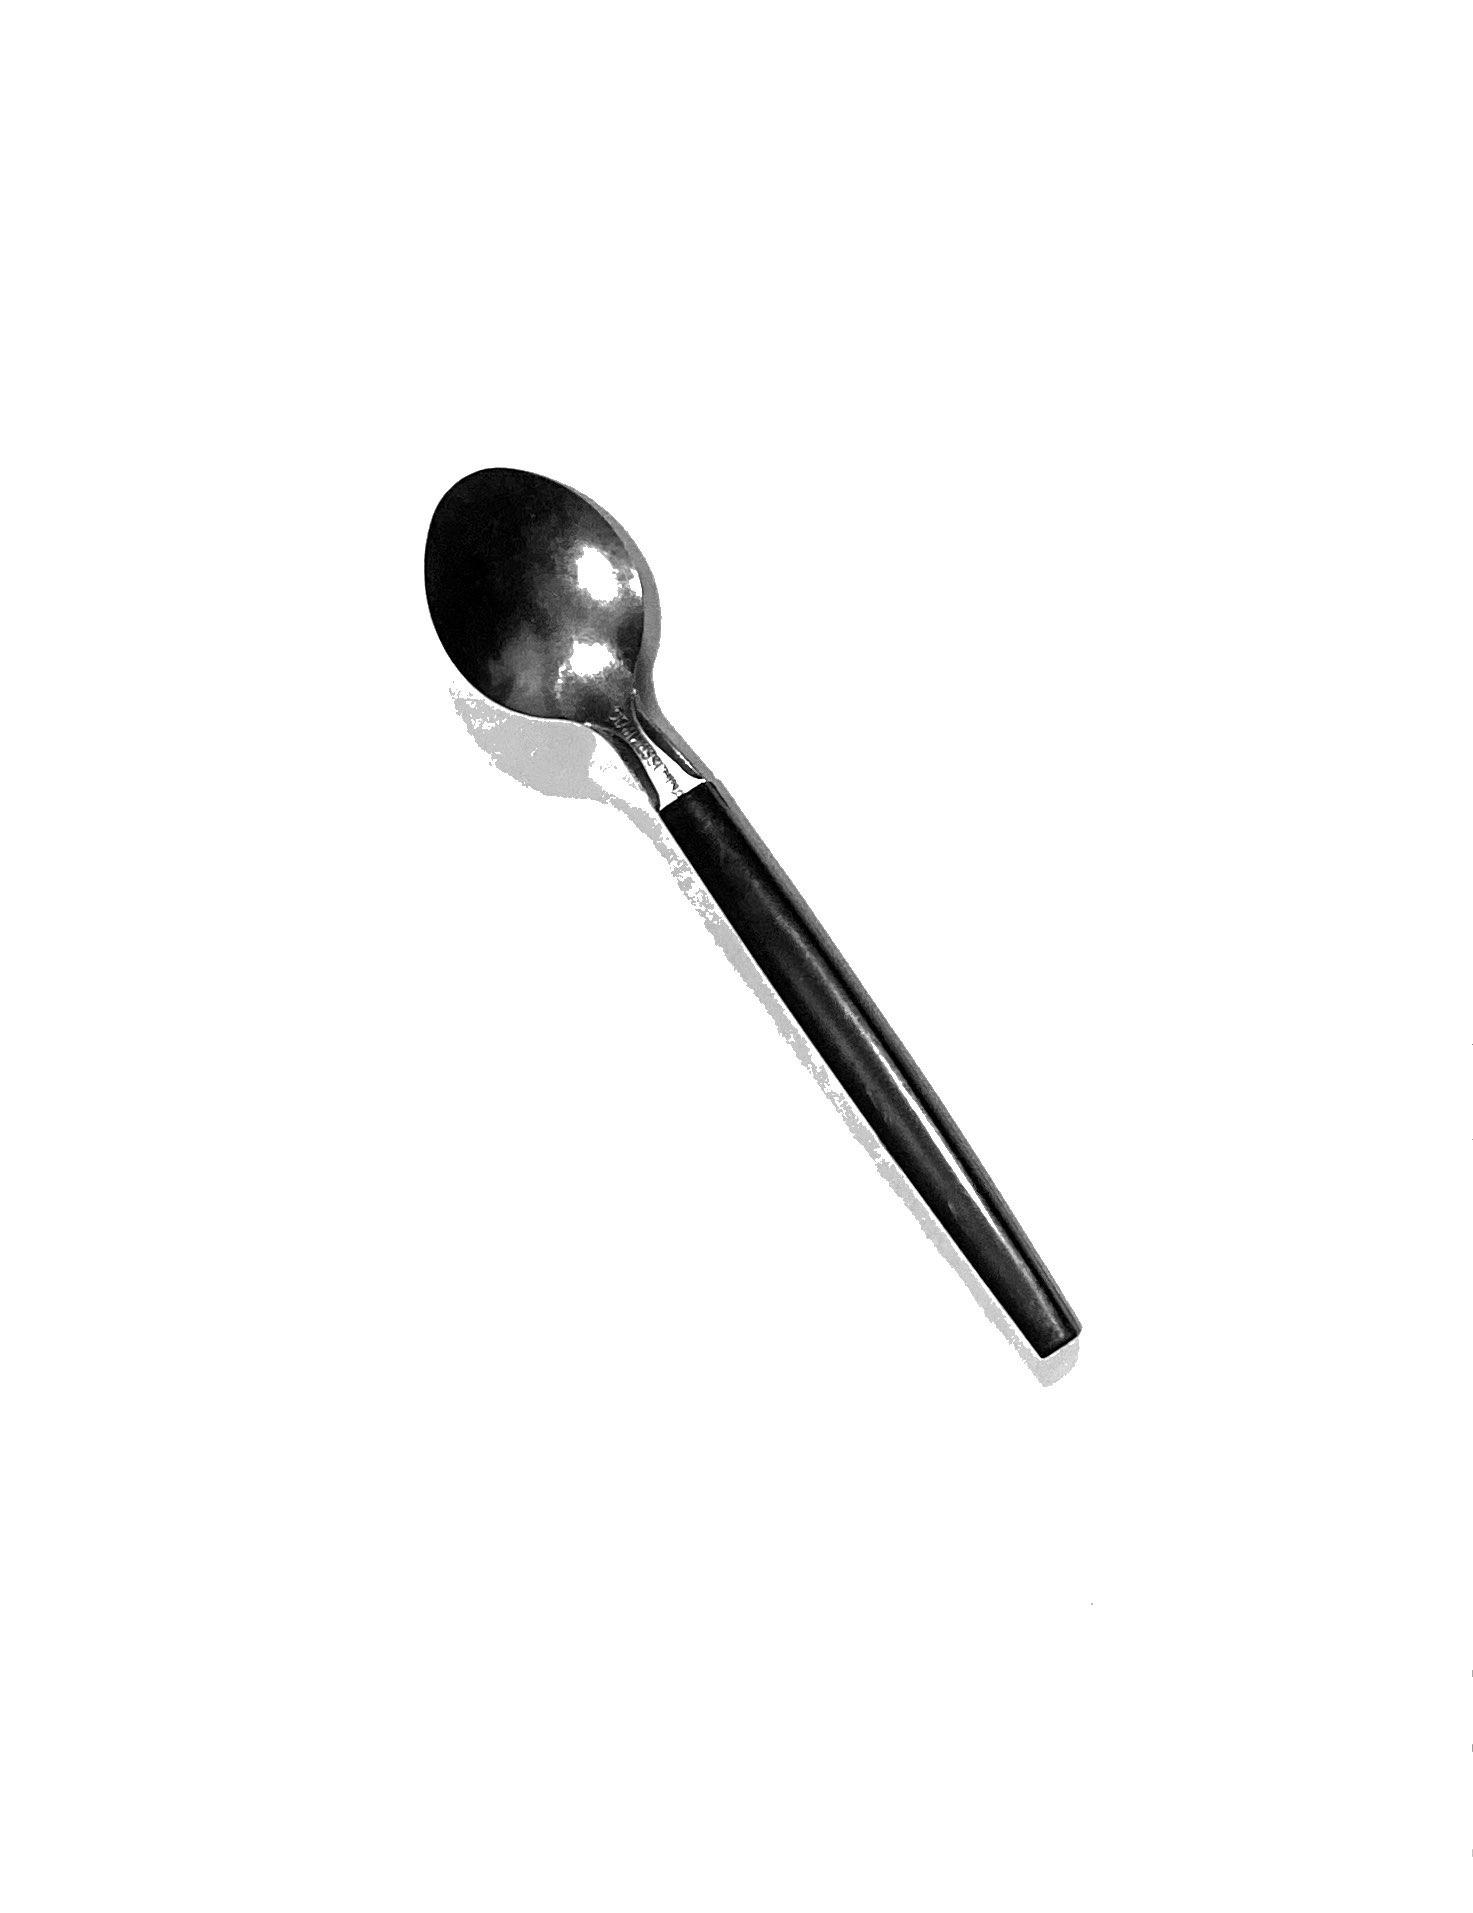Spoon: (361, 414, 1259, 1533)
